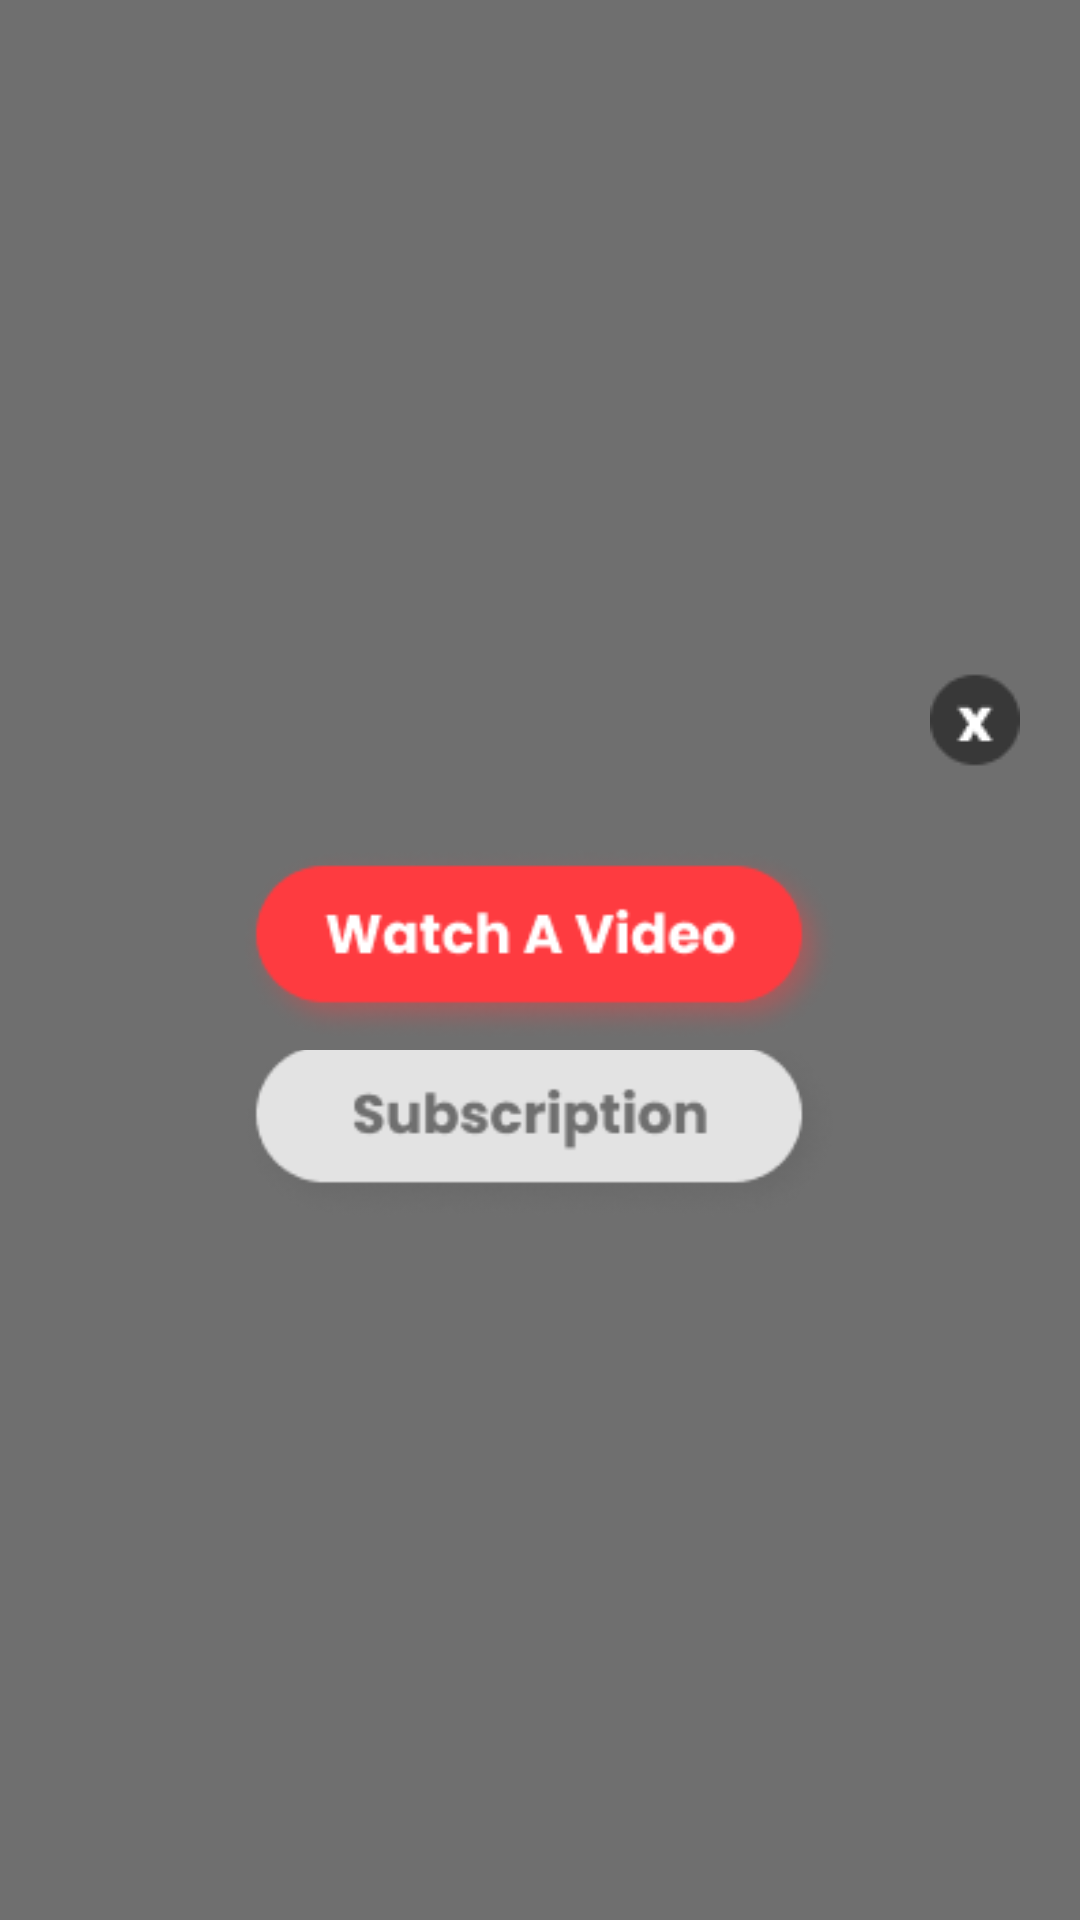

Screen size 1080 x 1920. Icon name, then its center in pixels as [x,y]:
close dialog: [975,720]
